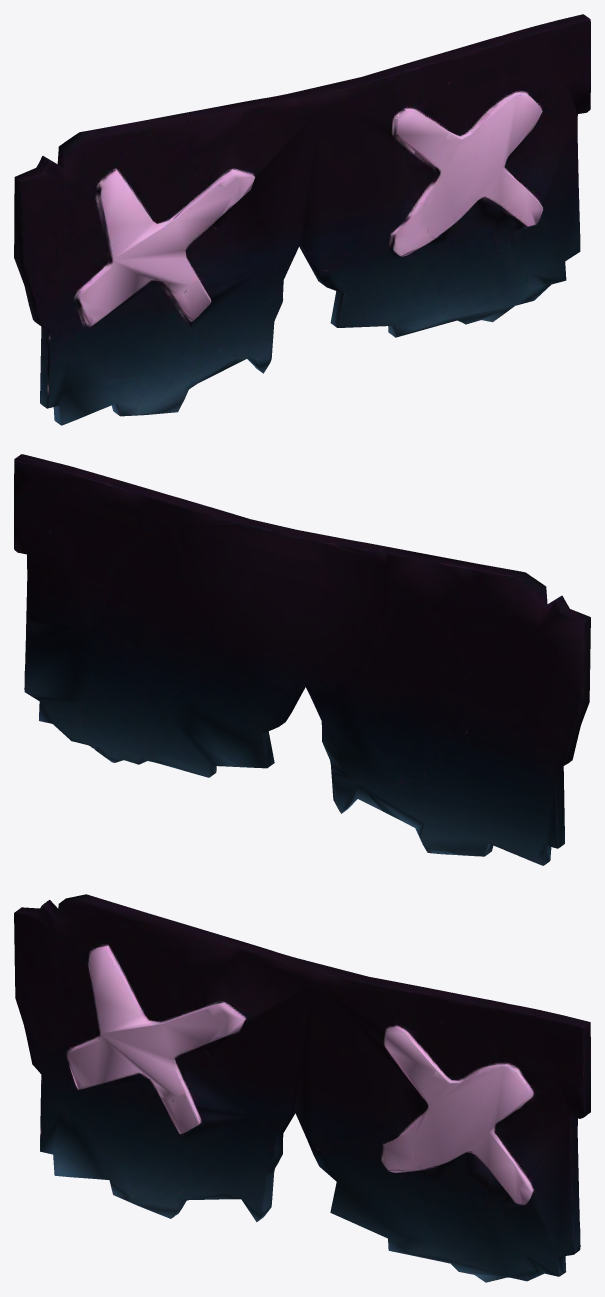
3 renders of one model, top to bottom at view 1: azimuth 30°, elevation 25°; view 2: azimuth 150°, elevation 25°; view 3: azimuth 330°, elevation 25°, orthographic.
Parts seen in each view (by area): view 1: node_0; view 2: node_0; view 3: node_0.
Boxes of the visible parts, x1,y1,x2,y2 form: node_0: (14,14,590,425); node_0: (14,454,590,865); node_0: (14,894,590,1282).
Size of the model in its own units: 1.08 by 0.5394 by 0.0334.
Materials: 1 (1 with a texture image).
